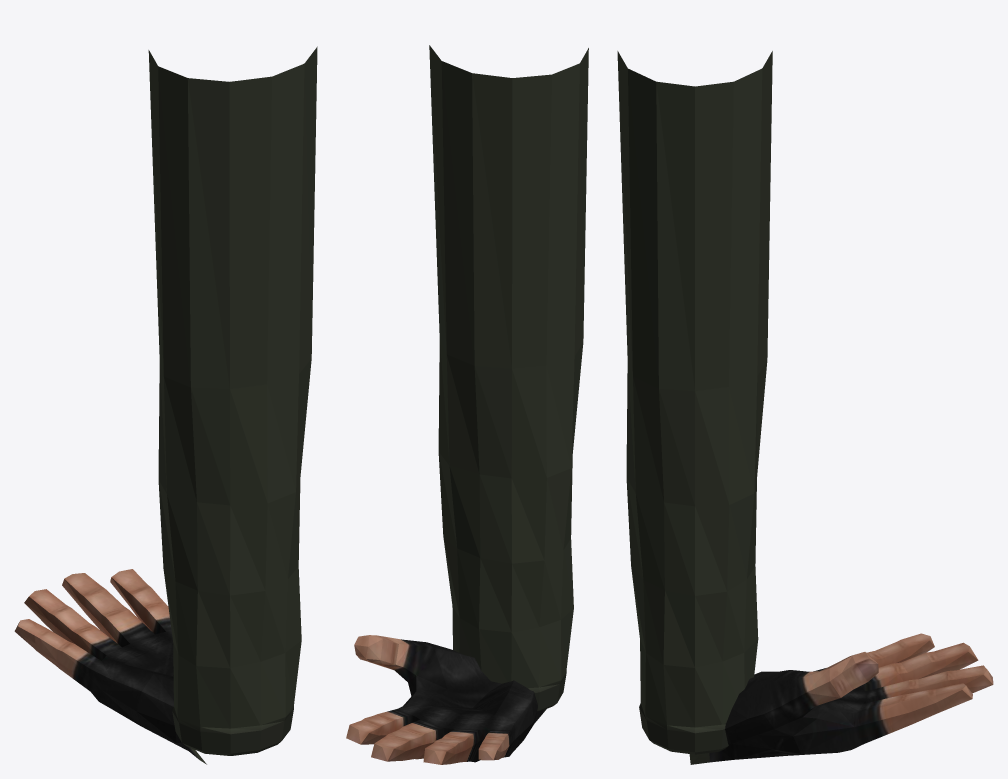
The model's file is hands.glb.
The picture shows the model from 3 angles, left to right: view 1: azimuth 30°, elevation 25°; view 2: azimuth 150°, elevation 25°; view 3: azimuth 270°, elevation 25°; orthographic projection. The views are drawn at different scales.
Visible parts, largest first — view 1: Sleeve, Hand; view 2: Sleeve, Hand; view 3: Sleeve, Hand.
Part boxes in pixels (x1=…): Sleeve: x1=148, y1=46, x2=317, y2=755; Hand: x1=14, y1=569, x2=206, y2=764; Sleeve: x1=429, y1=45, x2=588, y2=711; Hand: x1=346, y1=635, x2=546, y2=764; Sleeve: x1=617, y1=51, x2=772, y2=754; Hand: x1=689, y1=633, x2=993, y2=764.
Size of the model in its own units: 0.126 by 0.4828 by 0.2314.
2 materials, 1 textured.
